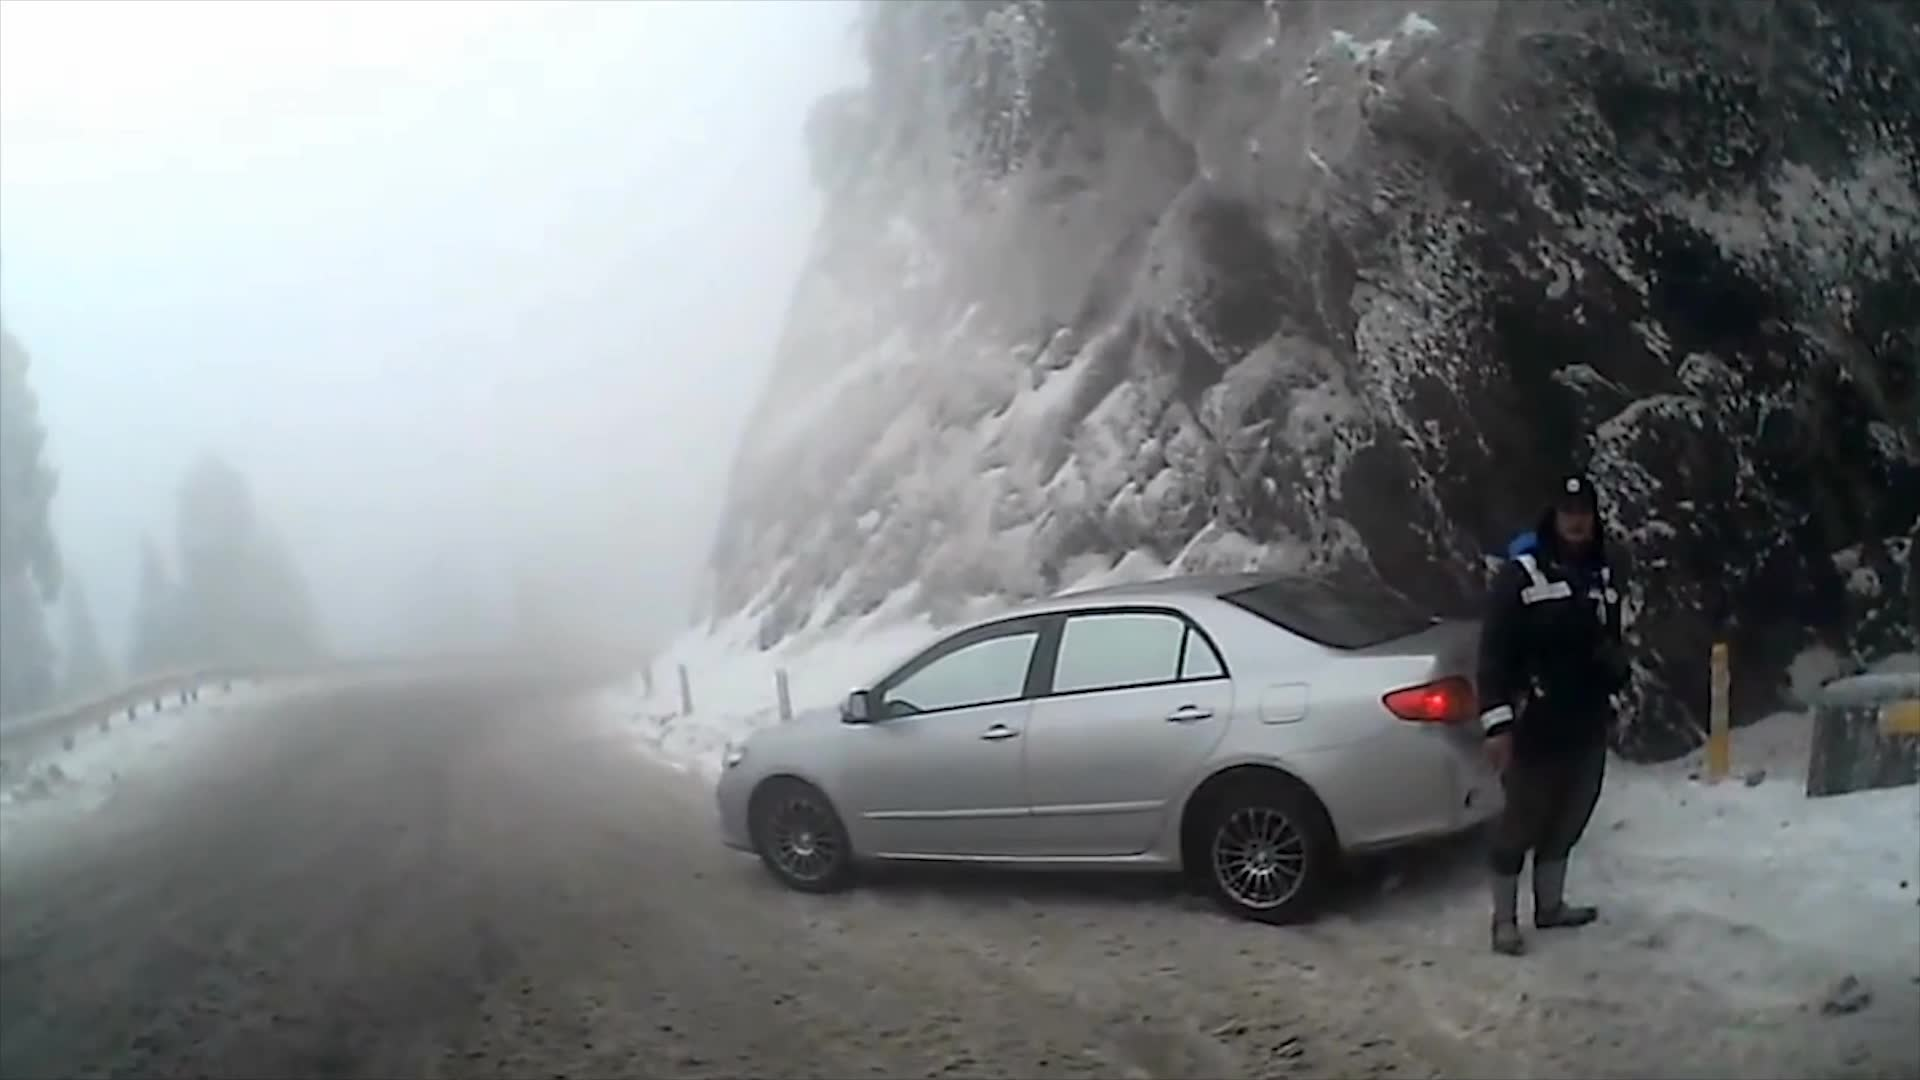pedestrian: (1470, 478, 1633, 961)
vehicle: (714, 570, 1571, 922)
